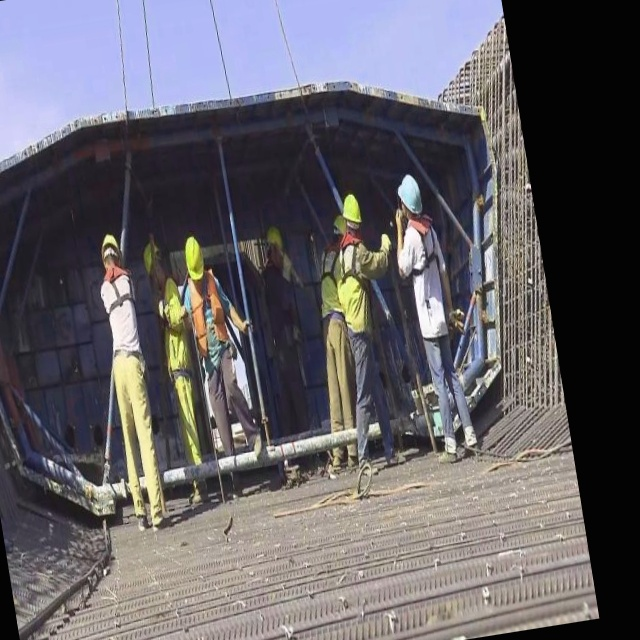Con_Casco: (181, 232, 207, 284), (340, 191, 365, 237)
